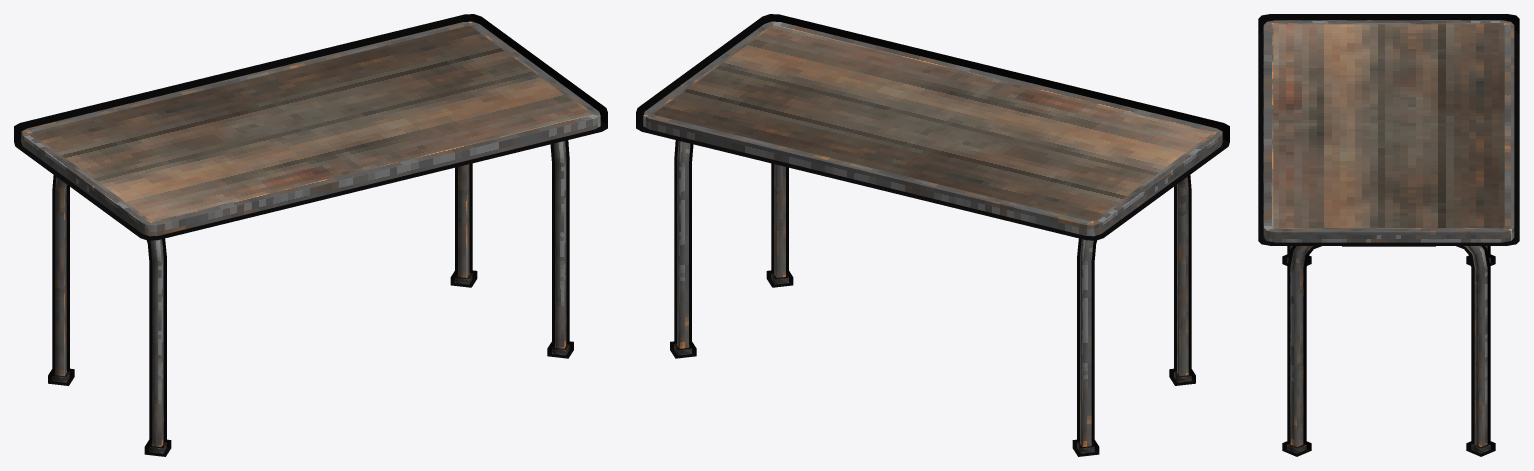
The model's file is WornBasicTable.glb.
3 renders of one model, left to right at view 1: azimuth 30°, elevation 25°; view 2: azimuth 150°, elevation 25°; view 3: azimuth 270°, elevation 25°, orthographic. The views are drawn at different scales.
Visible parts, largest first — view 1: WornBasicTableCull; view 2: WornBasicTableCull; view 3: WornBasicTableCull.
Part boxes in pixels (box(x1,y1,x2,y2)): WornBasicTableCull: box(14, 14, 607, 456); WornBasicTableCull: box(636, 14, 1229, 456); WornBasicTableCull: box(1258, 14, 1519, 456).
Bounding box in the file's own units: 1.52 × 0.7715 × 0.7773.
Materials: 2 (1 with a texture image).
